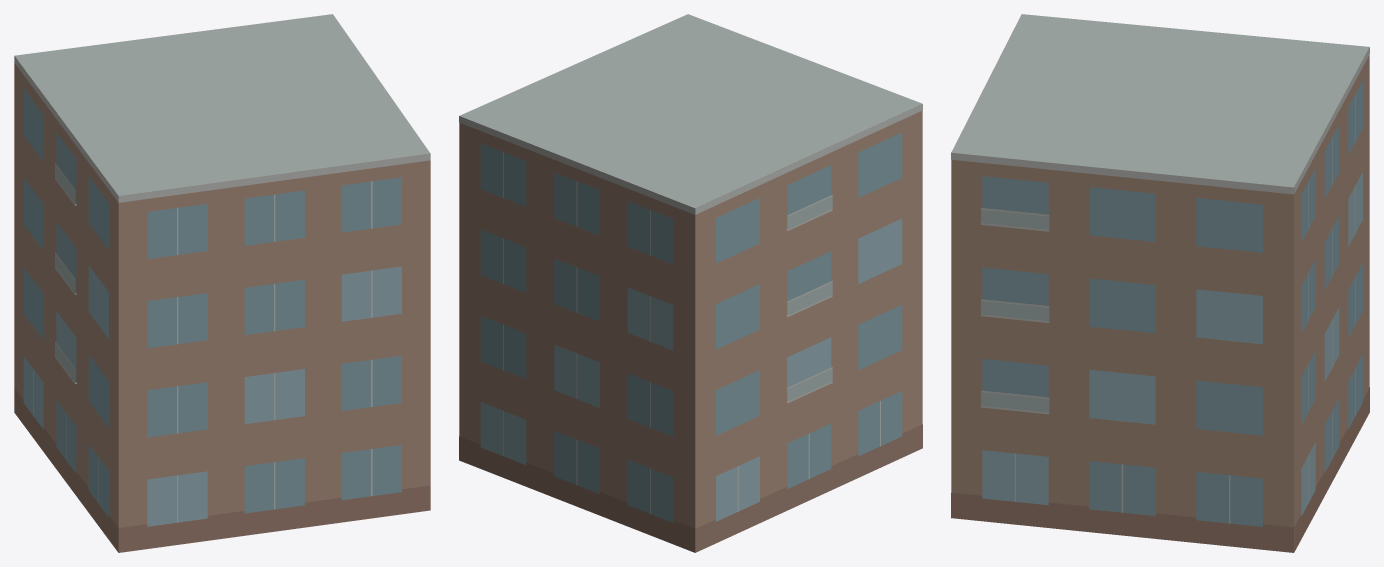
The model's file is survey-upis-32977773.glb.
3 renders of one model, left to right at view 1: azimuth 30°, elevation 25°; view 2: azimuth 150°, elevation 25°; view 3: azimuth 270°, elevation 25°, orthographic. The views are drawn at different scales.
Parts seen in each view (by area): view 1: survey-upis-32977773.tmp; view 2: survey-upis-32977773.tmp; view 3: survey-upis-32977773.tmp.
Boxes of the visible parts, box(x1,y1,x2,y2) form: survey-upis-32977773.tmp: box(14, 14, 430, 552); survey-upis-32977773.tmp: box(459, 14, 922, 552); survey-upis-32977773.tmp: box(951, 14, 1369, 552).
Bounding box in the file's own units: 13.05 × 12.8 × 13.3.
